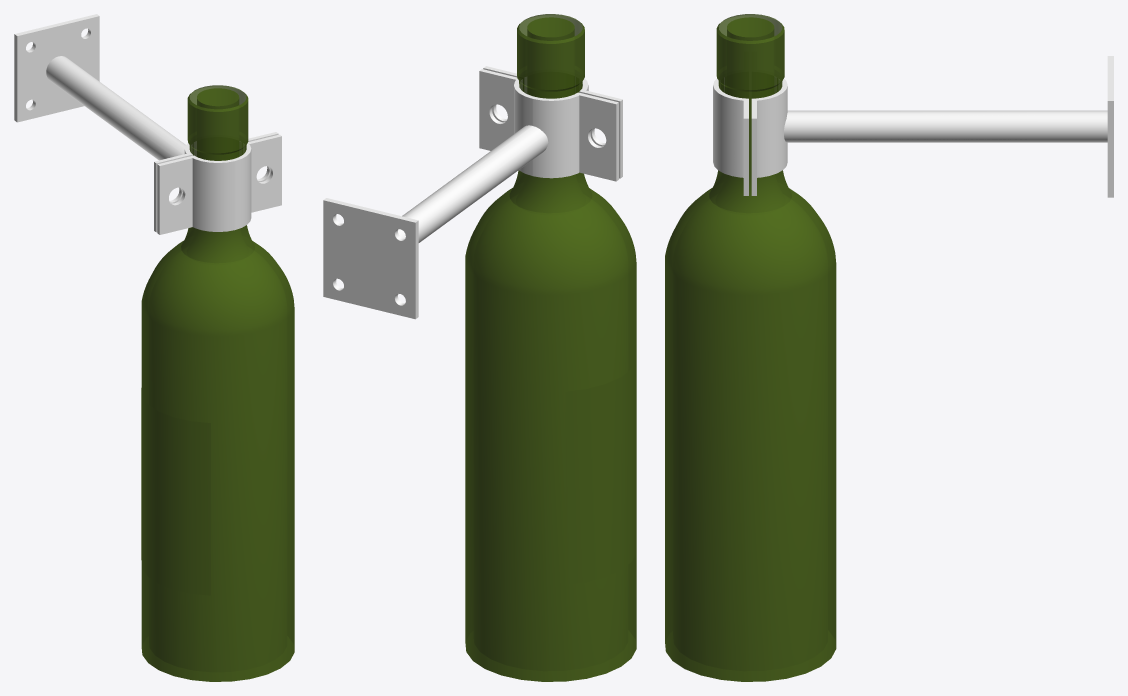
3 renders of one model, left to right at view 1: azimuth 30°, elevation 25°; view 2: azimuth 150°, elevation 25°; view 3: azimuth 270°, elevation 25°, orthographic. The views are drawn at different scales.
Parts seen in each view (by area): view 1: mesh24_mesh24-geometry, mesh26_mesh26-geometry, mesh22_mesh22-geometry, mesh1_mesh1-geometry, mesh12_mesh12-geometry, mesh35_mesh35-geometry; view 2: mesh24_mesh24-geometry, mesh26_mesh26-geometry, mesh22_mesh22-geometry, mesh1_mesh1-geometry, mesh12_mesh12-geometry, mesh35_mesh35-geometry; view 3: mesh24_mesh24-geometry, mesh26_mesh26-geometry, mesh35_mesh35-geometry, mesh1_mesh1-geometry, mesh12_mesh12-geometry.
Part boxes in pixels (bbox=[...]): mesh24_mesh24-geometry: bbox=[141, 85, 294, 681]; mesh26_mesh26-geometry: bbox=[149, 88, 286, 671]; mesh22_mesh22-geometry: bbox=[141, 388, 210, 595]; mesh1_mesh1-geometry: bbox=[154, 132, 281, 234]; mesh12_mesh12-geometry: bbox=[14, 14, 99, 122]; mesh35_mesh35-geometry: bbox=[46, 56, 185, 160]; mesh24_mesh24-geometry: bbox=[465, 14, 636, 681]; mesh26_mesh26-geometry: bbox=[474, 17, 627, 670]; mesh22_mesh22-geometry: bbox=[565, 360, 636, 584]; mesh1_mesh1-geometry: bbox=[479, 66, 622, 181]; mesh12_mesh12-geometry: bbox=[323, 198, 418, 319]; mesh35_mesh35-geometry: bbox=[398, 125, 548, 242]; mesh24_mesh24-geometry: bbox=[665, 14, 836, 681]; mesh26_mesh26-geometry: bbox=[673, 17, 827, 670]; mesh35_mesh35-geometry: bbox=[784, 110, 1107, 142]; mesh1_mesh1-geometry: bbox=[713, 77, 787, 195]; mesh12_mesh12-geometry: bbox=[1107, 56, 1113, 197].
Size of the model in its own units: 0.2054 by 0.8176 by 0.538.
